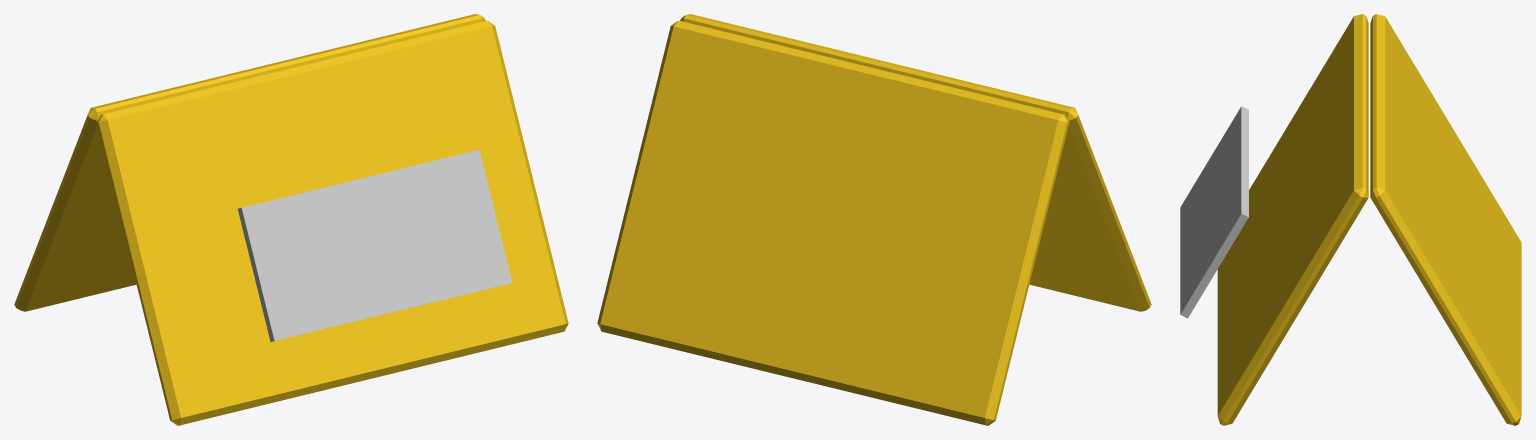
Rendered from placa_vestigio.obj.
3 renders of one model, left to right at view 1: azimuth 30°, elevation 25°; view 2: azimuth 150°, elevation 25°; view 3: azimuth 270°, elevation 25°, orthographic. The views are drawn at different scales.
Parts seen in each view (by area): view 1: placa_vestigio; view 2: placa_vestigio; view 3: placa_vestigio.
Part boxes in pixels (x1,y1,x2,y2): placa_vestigio: [14, 14, 568, 425]; placa_vestigio: [597, 14, 1151, 425]; placa_vestigio: [1180, 14, 1521, 425].
Bounding box in the file's own units: 0.1 × 0.0619 × 0.0804.
